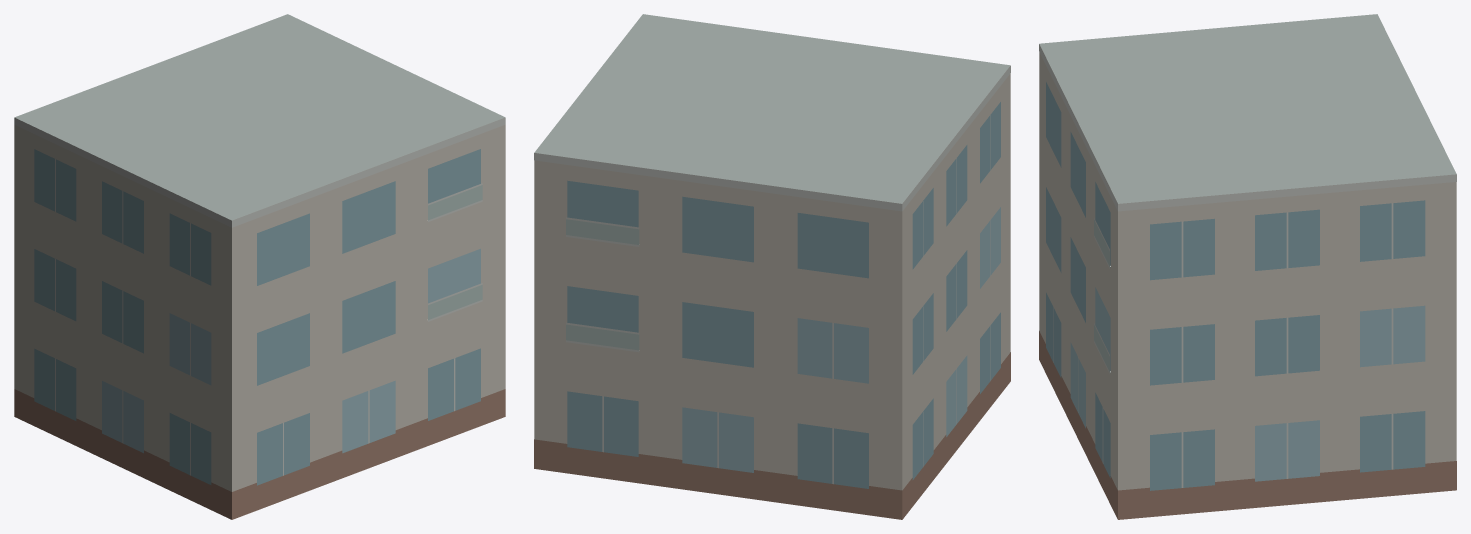
File: survey-upis-32838059.glb
3 views of the same model, side by side, from view 1: azimuth 30°, elevation 25°; view 2: azimuth 150°, elevation 25°; view 3: azimuth 270°, elevation 25° (orthographic). The views are drawn at different scales.
Visible parts, largest first — view 1: survey-upis-32838059.tmp; view 2: survey-upis-32838059.tmp; view 3: survey-upis-32838059.tmp.
Boxes of the visible parts, left/top/right/bottom form: survey-upis-32838059.tmp: left=14, top=14, right=505, bottom=519; survey-upis-32838059.tmp: left=534, top=14, right=1010, bottom=519; survey-upis-32838059.tmp: left=1039, top=14, right=1456, bottom=519.
Size of the model in its own units: 13.16 by 10.2 by 12.23.
